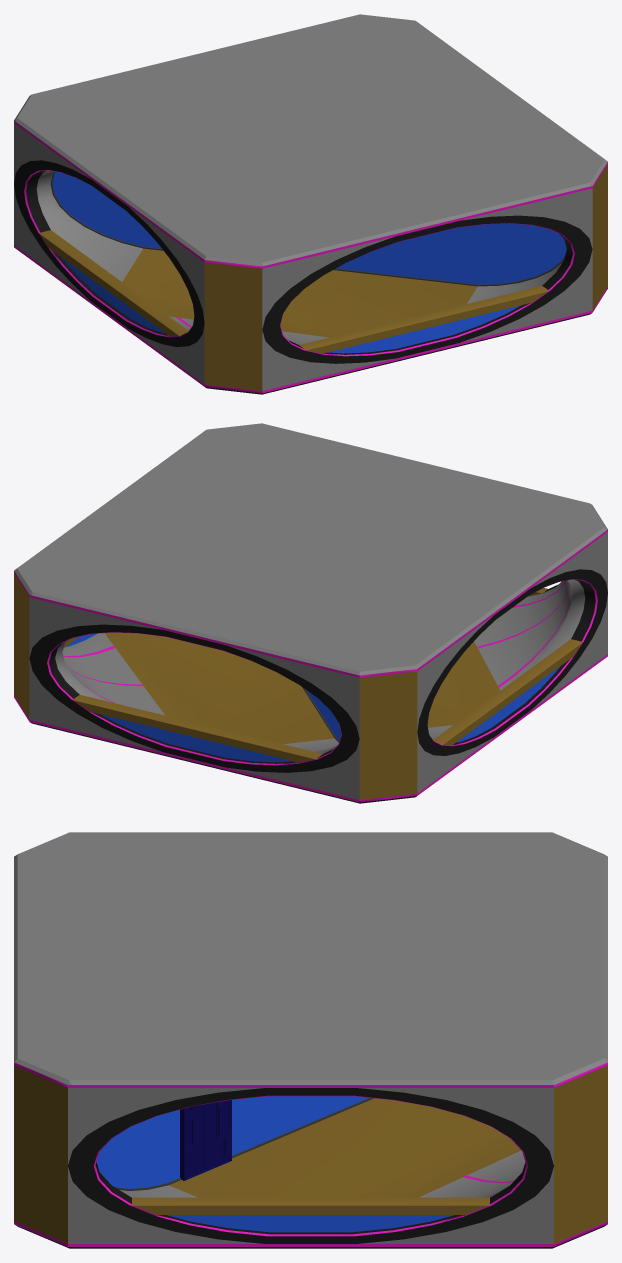
The model's file is SM_Building_Roof_MK7.fbx.
3 renders of one model, top to bottom at view 1: azimuth 30°, elevation 25°; view 2: azimuth 150°, elevation 25°; view 3: azimuth 270°, elevation 25°, orthographic. The views are drawn at different scales.
Parts seen in each view (by area): view 1: SM_Building_Roof_MK7; view 2: SM_Building_Roof_MK7; view 3: SM_Building_Roof_MK7.
Part boxes in pixels (x1,y1,x2,y2): SM_Building_Roof_MK7: (14, 14, 607, 394); SM_Building_Roof_MK7: (14, 423, 607, 803); SM_Building_Roof_MK7: (14, 832, 607, 1248).
Bounding box in the file's own units: 1600 × 500 × 1600.
